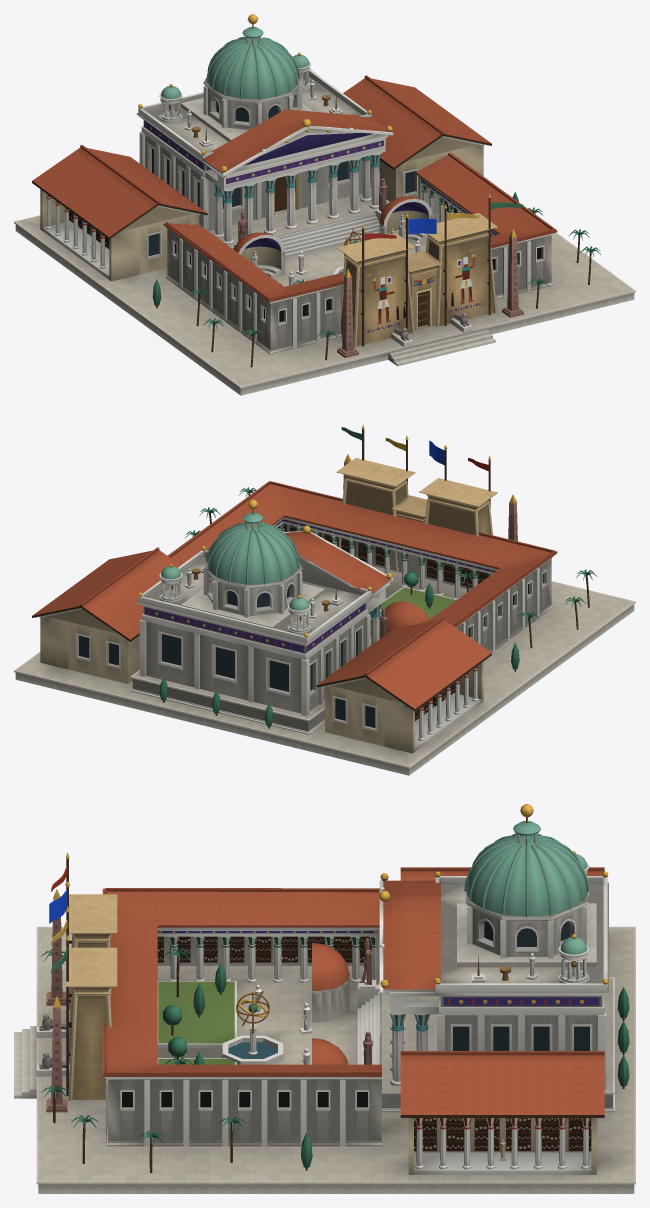
The model's file is lm_kutuphane.glb.
The picture shows the model from 3 angles, top to bottom: view 1: azimuth 30°, elevation 25°; view 2: azimuth 150°, elevation 25°; view 3: azimuth 270°, elevation 25°; orthographic projection. The views are drawn at different scales.
Parts seen in each view (by area): view 1: lm_kutuphane; view 2: lm_kutuphane; view 3: lm_kutuphane.
Part boxes in pixels (x1,y1,x2,y2): lm_kutuphane: (14, 14, 635, 395); lm_kutuphane: (14, 424, 635, 775); lm_kutuphane: (14, 804, 635, 1193).
Bounding box in the file's own units: 2.25 × 1.08 × 2.32.
Materials: 1 (1 with a texture image).
